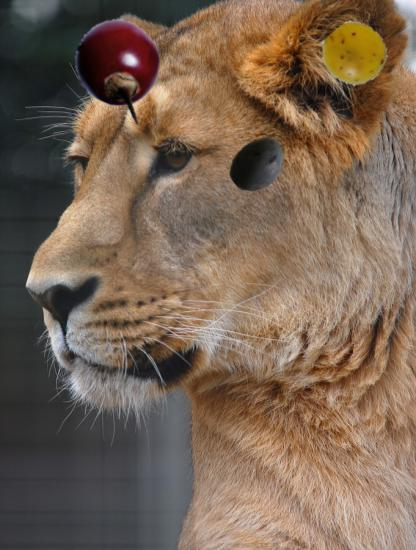Grape: (324, 23, 387, 86)
Plum: (228, 134, 290, 196)
Tamarillo: (70, 19, 165, 114)
